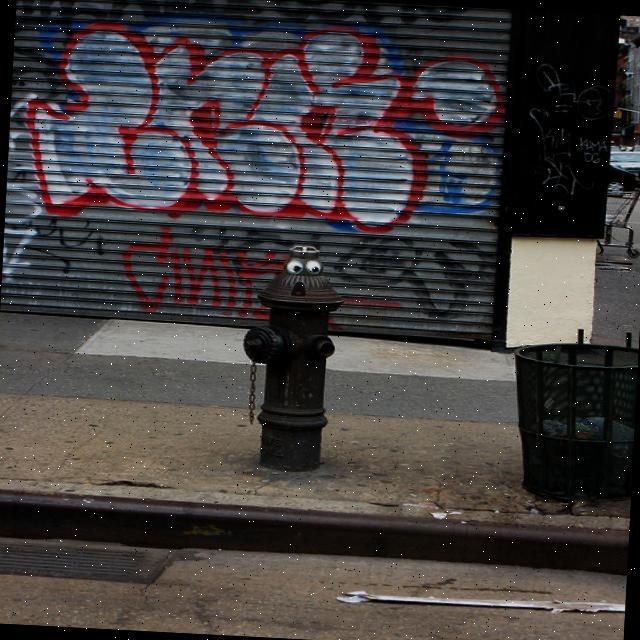fire_hydrant: (224, 232, 342, 482)
